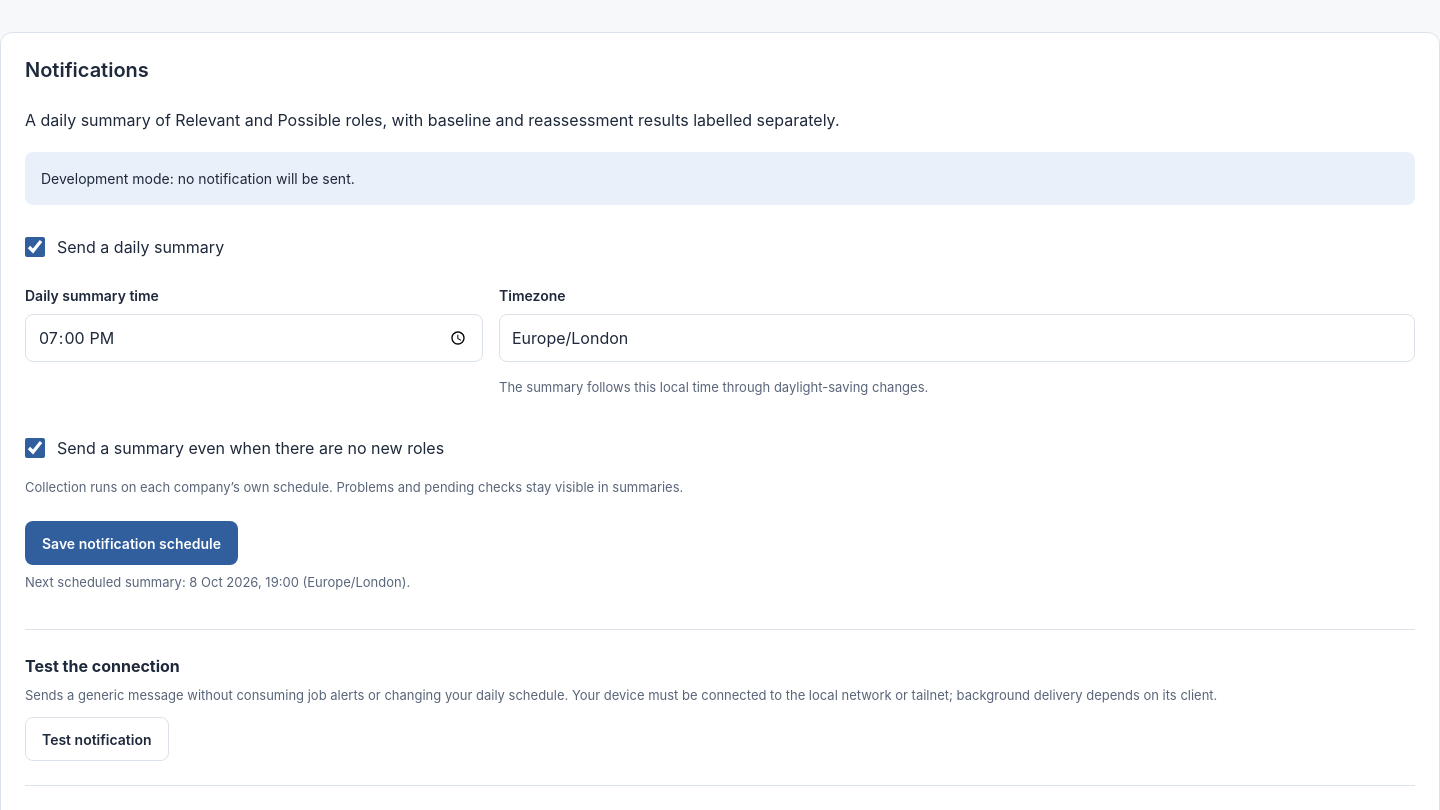
Test: test notification keeps its request key after an ambiguous network error
Click the button "Test notification". click: click(97, 739)
box: [25,717,168,761]
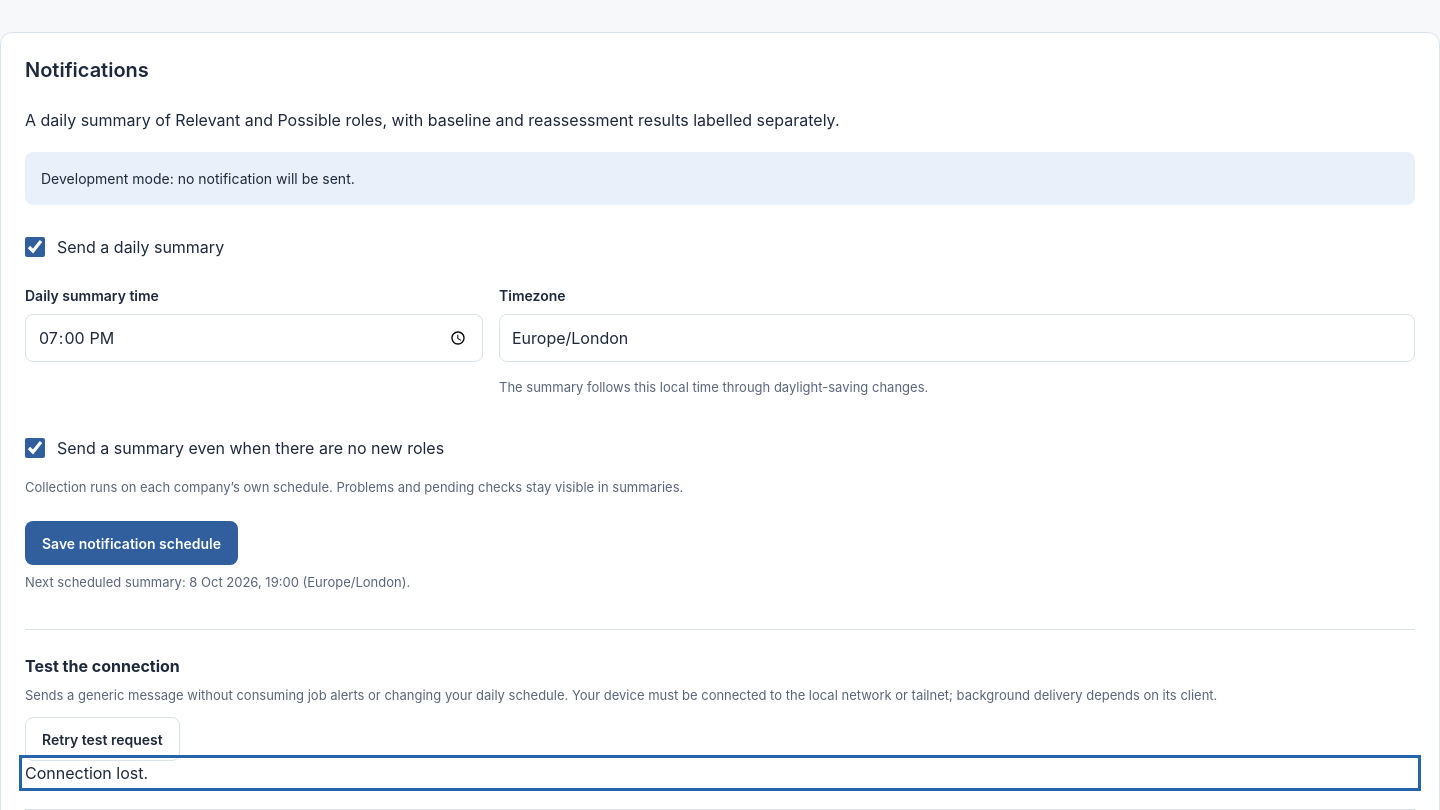
expect the text "Connection lost." is shown: met, box [25,763,148,783]
Click the button "Retry test request". click: click(102, 739)
box: [25,717,180,761]
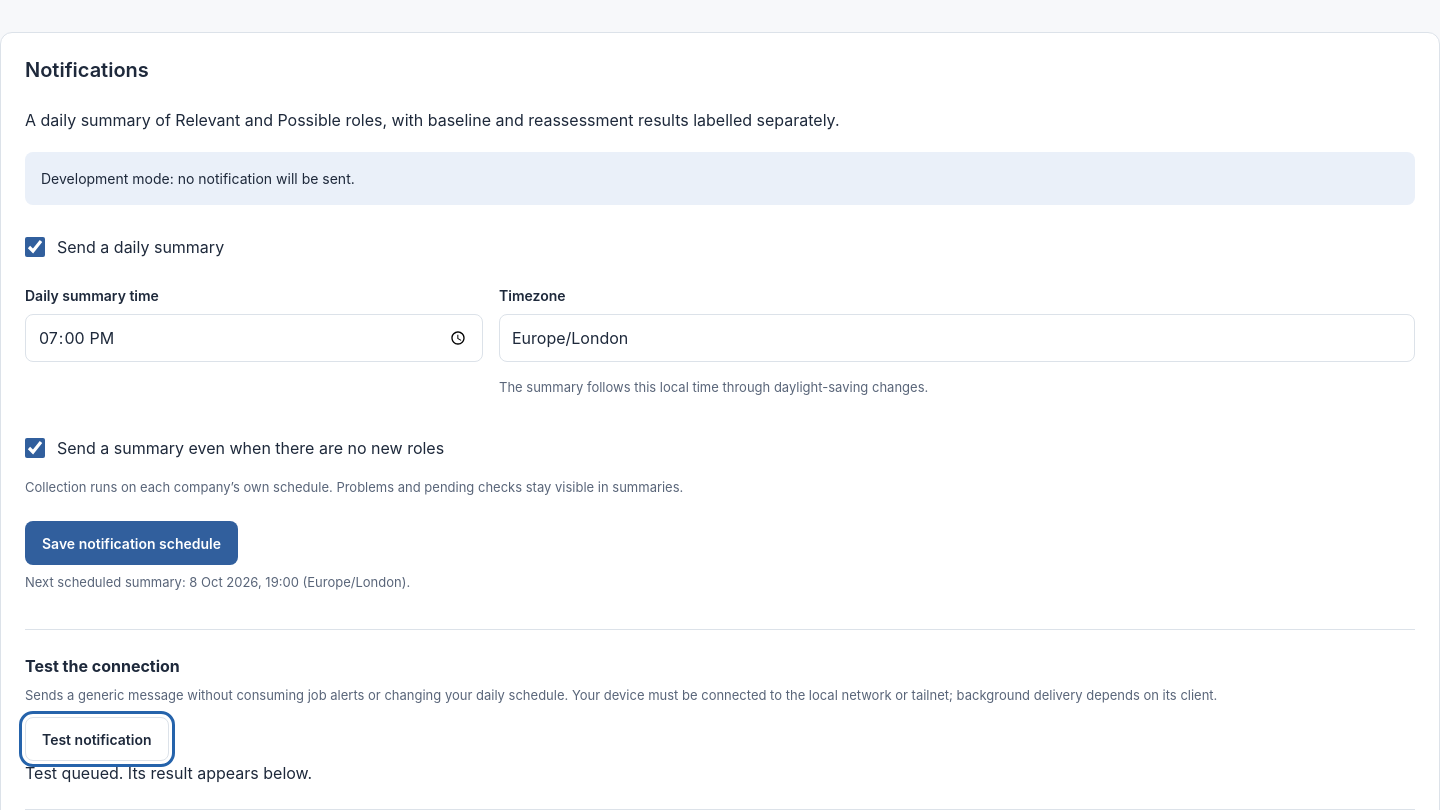
expect the text "Test queued. Its result appears below." is shown: met, box [25,763,312,783]
